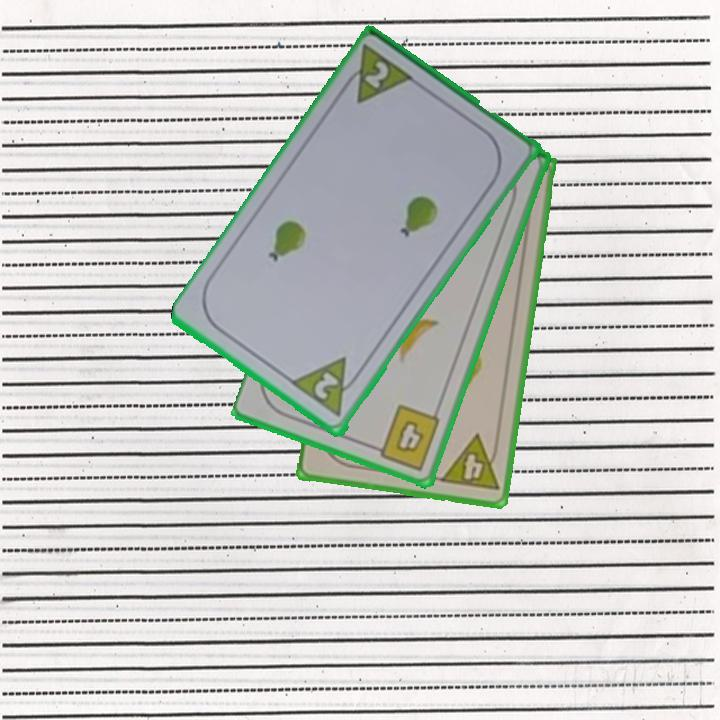2p: (288, 353, 366, 421), (337, 42, 418, 107)
4b: (368, 401, 444, 474)
4p: (436, 431, 503, 494)
